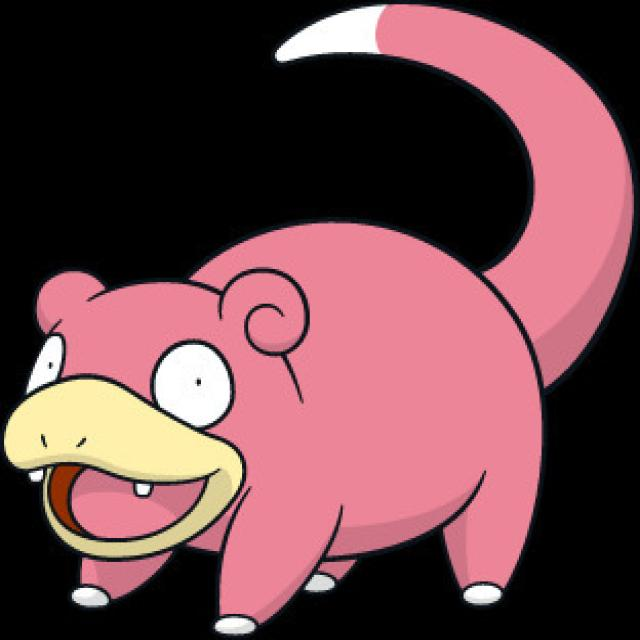Slowpoke: (0, 189, 574, 640)
